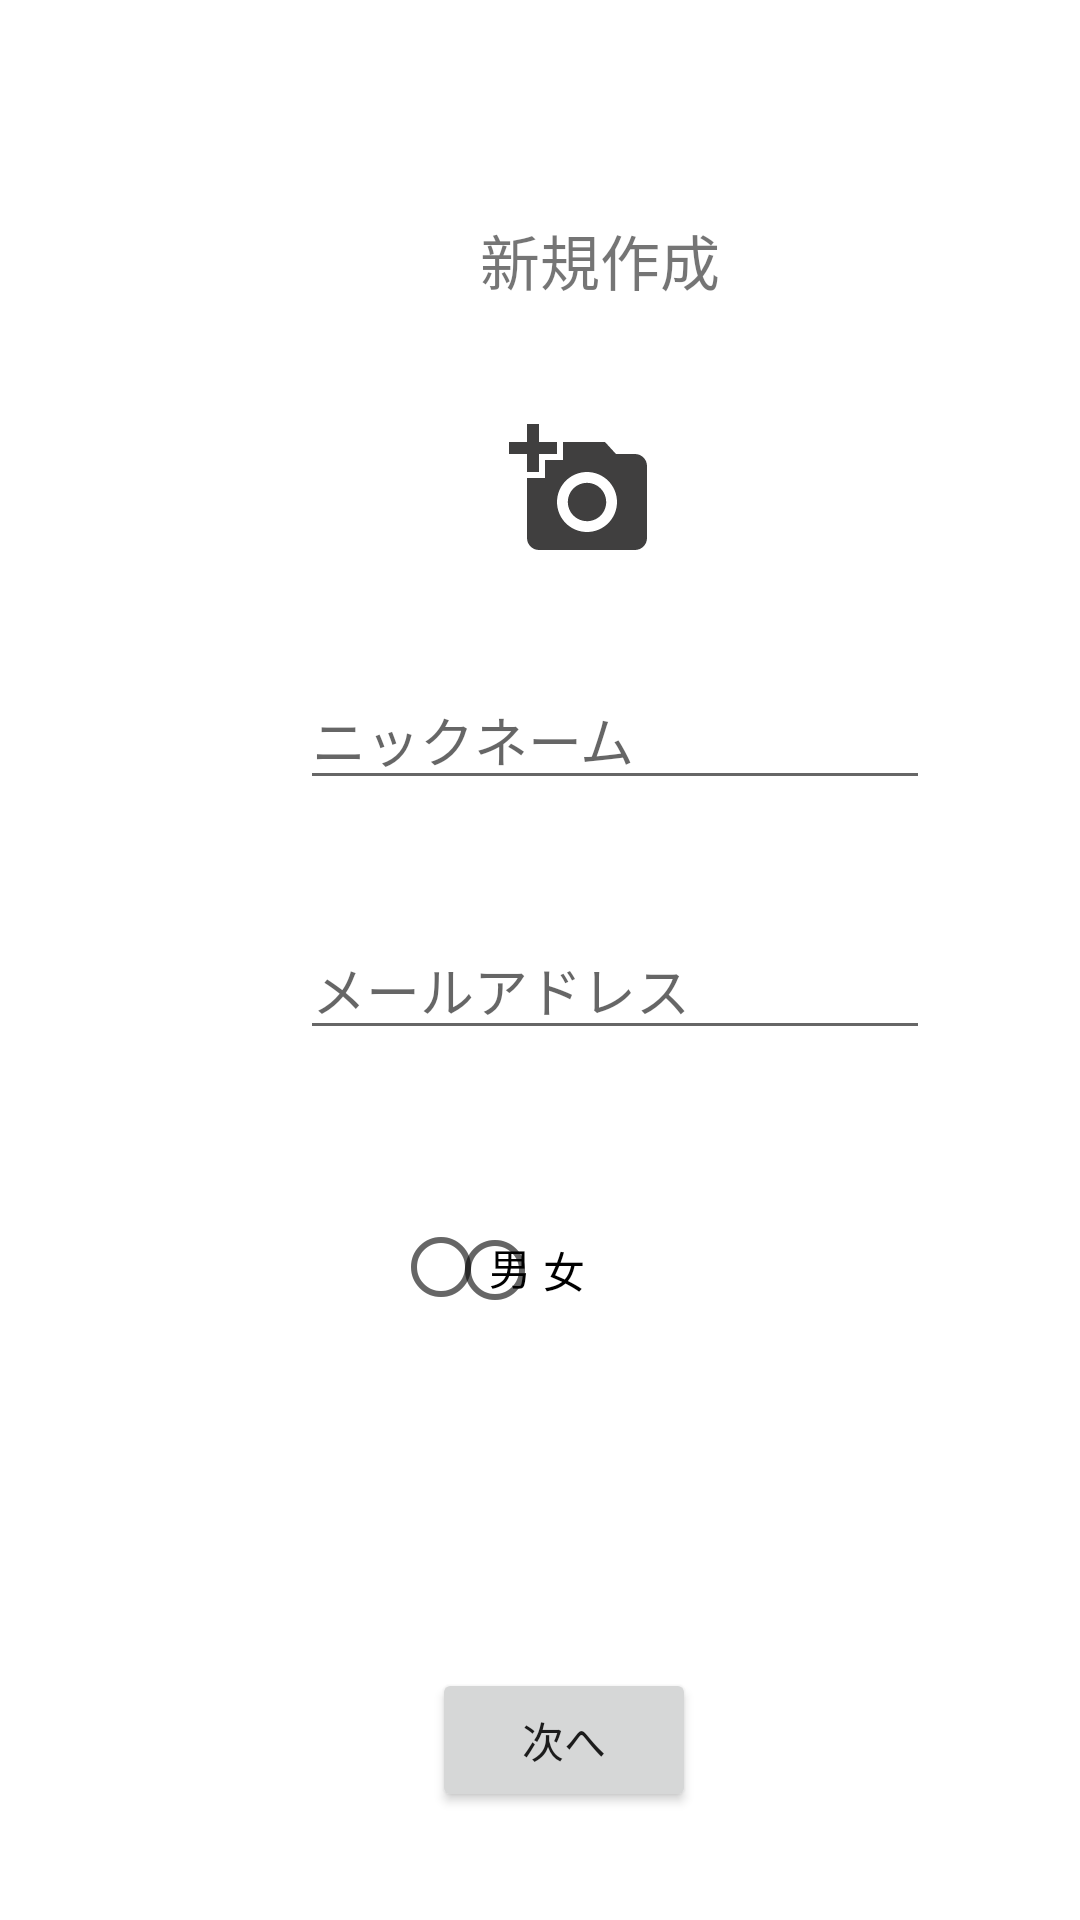

Icon click points for this 1080w x 1920h phone screenshot, format (x=x, y=y):
add photo: (x=578, y=487)
